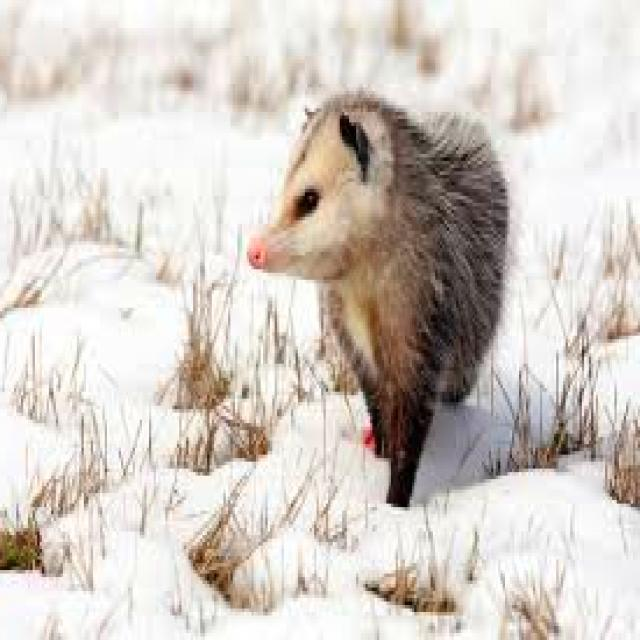possum: (249, 91, 510, 504)
